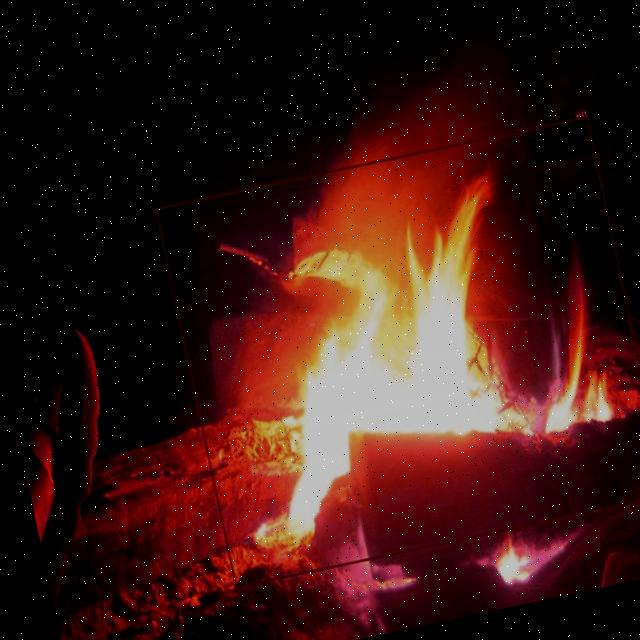fire: (155, 115, 640, 587)
